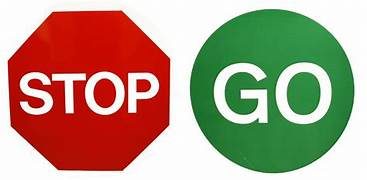stop: (8, 9, 171, 172)
